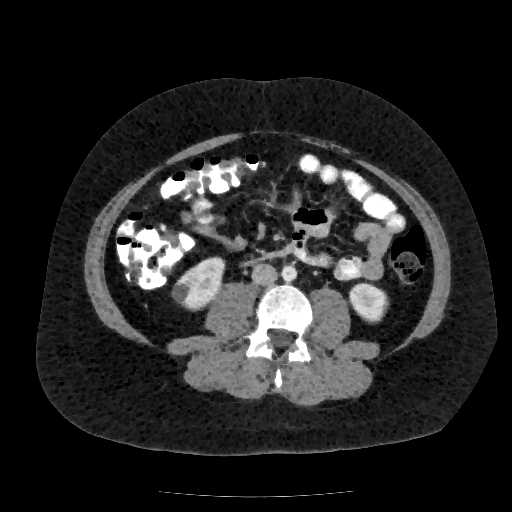Lesion: (168, 278, 192, 306)
